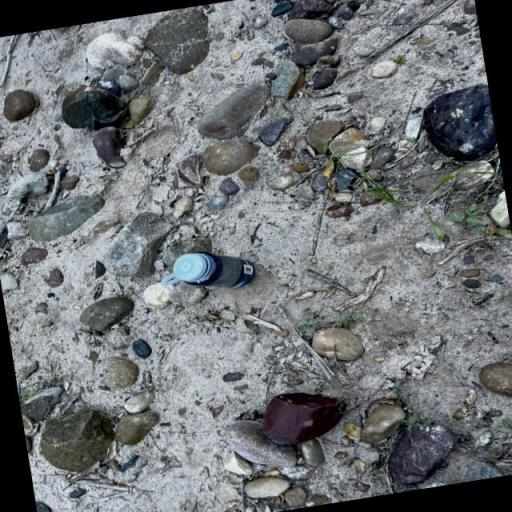bottle: (170, 242, 260, 299)
